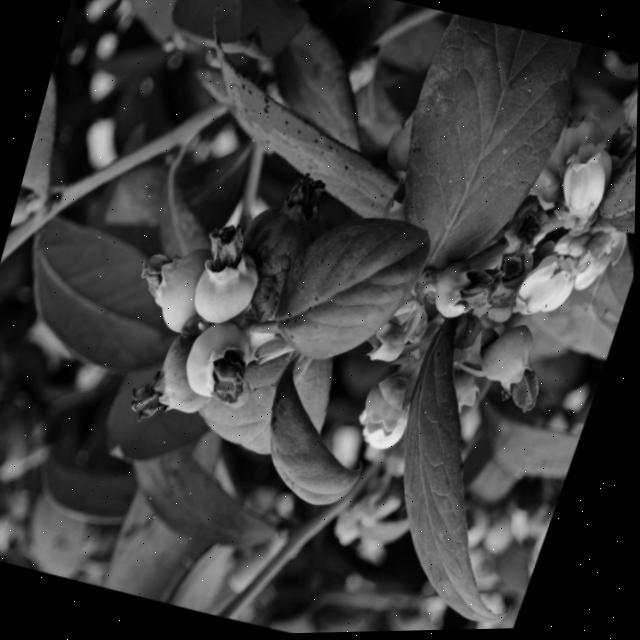RipeBlueBerry: (233, 187, 330, 294), (150, 330, 232, 425)
UnripeBlueBerry: (181, 316, 275, 416), (186, 241, 274, 337)
